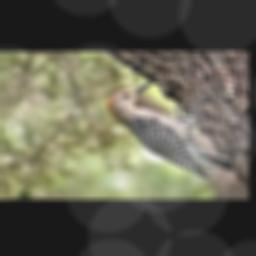Woodpecker: (107, 81, 233, 180)
